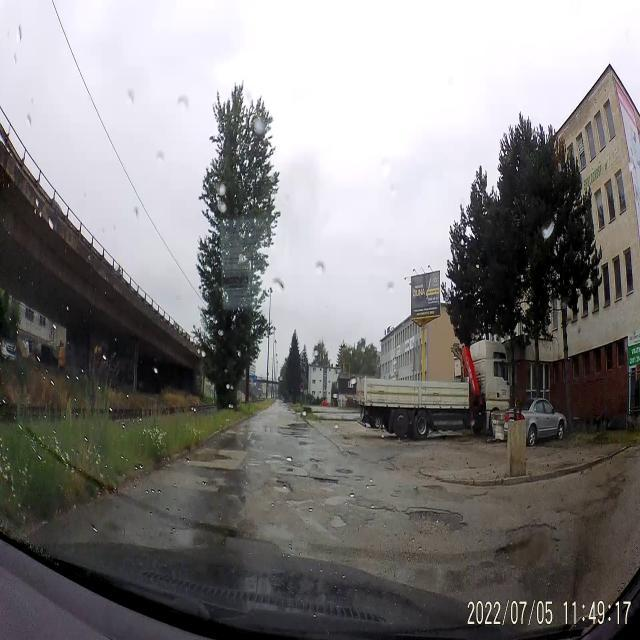Manhole: (285, 458, 303, 468), (337, 466, 352, 476)
Pothole: (498, 516, 564, 574), (404, 506, 468, 534), (312, 472, 339, 494), (329, 510, 349, 532), (364, 502, 394, 516), (284, 497, 314, 510), (274, 477, 294, 493), (421, 482, 448, 492), (468, 490, 488, 500), (310, 453, 322, 468), (356, 474, 367, 485), (388, 490, 403, 498)
